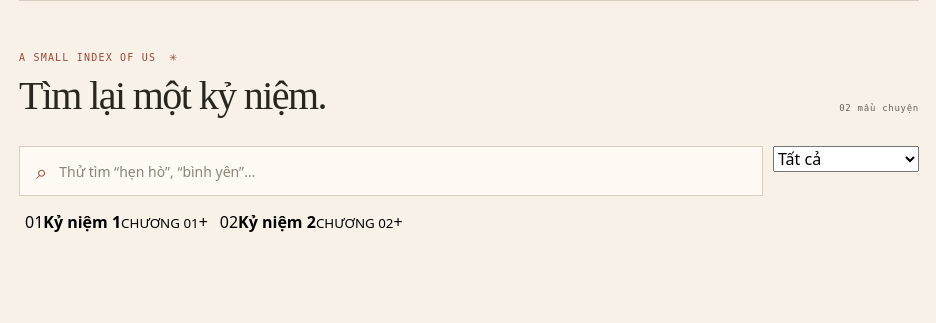
MemoryExplorer › says so when nothing matches
This screenshot has width=936, height=323.
Type "zzz" into the search field. click: (402, 171)
box: [57,160,746,182]
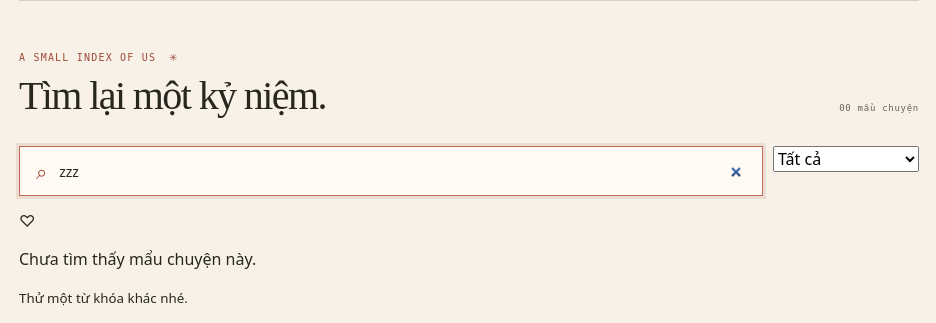
Now the text "Chưa tìm thấy mẩu chuyện này." is shown, box [19,248,256,270]
